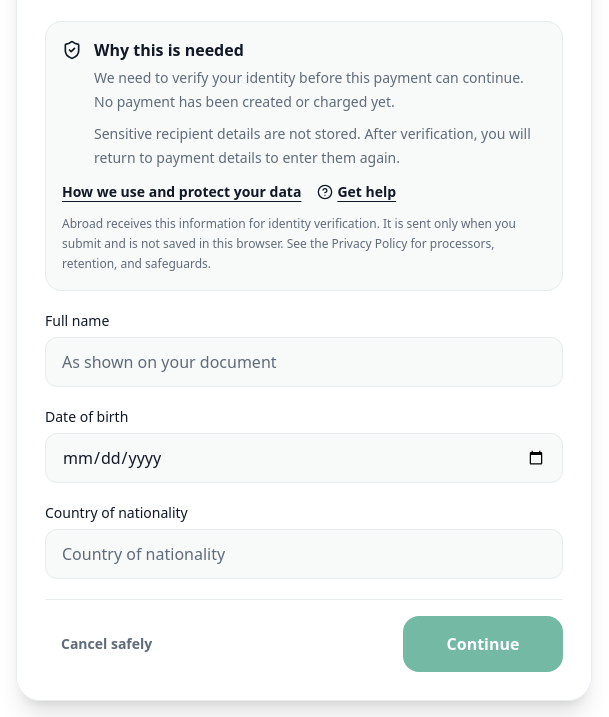
Test case: progressive identity verification › ties validation to each field, provides a linked summary, and focuses the first error
(page scrolled)
Click the button "Continue" at {"x": 483, "y": 644}, box 403,616 -> 563,672
(page scrolled)
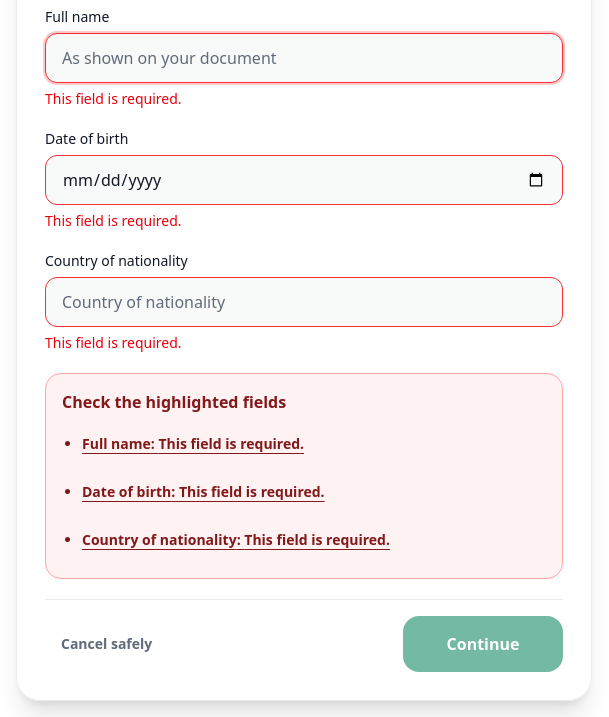
Expected: the heading "Check the highlighted fields" is shown, 62,391 -> 286,413
Expected: the button "Date of birth: This field is required." is shown, 82,470 -> 325,514
